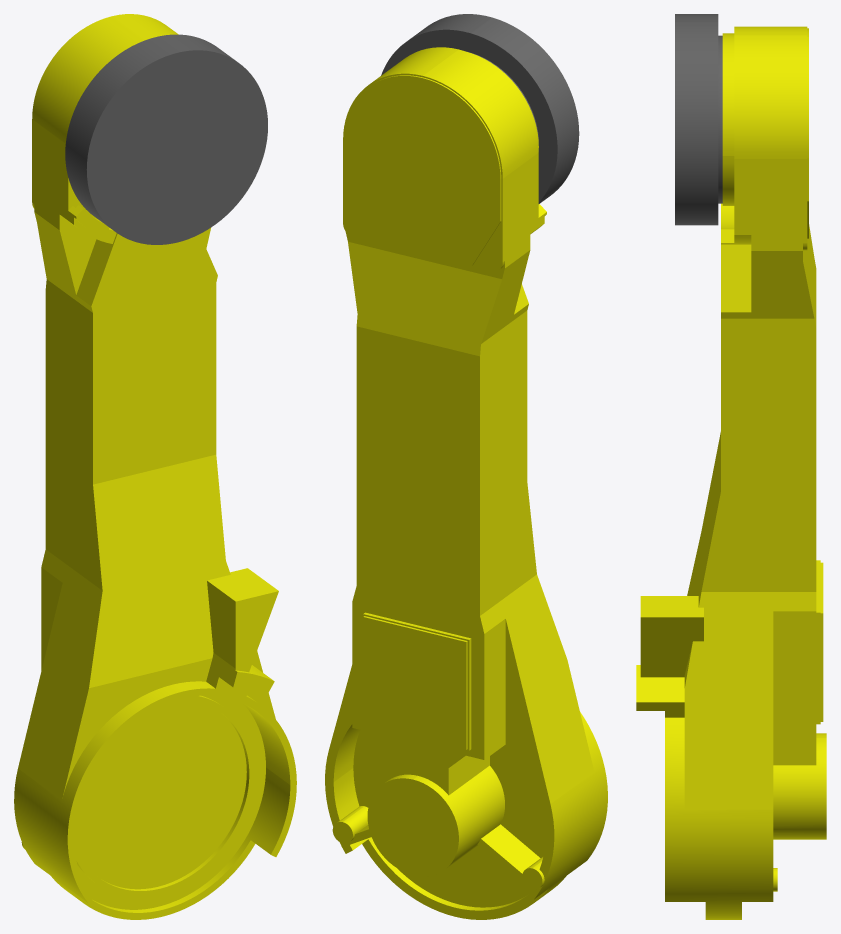
The picture shows the model from 3 angles, left to right: view 1: azimuth 30°, elevation 25°; view 2: azimuth 150°, elevation 25°; view 3: azimuth 270°, elevation 25°; orthographic projection.
Parts seen in each view (by area): view 1: Mesh_0; view 2: Mesh_0; view 3: Mesh_0.
Boxes of the visible parts, left/top/right/bottom form: Mesh_0: left=14, top=14, right=296, bottom=919; Mesh_0: left=325, top=14, right=607, bottom=919; Mesh_0: left=636, top=14, right=826, bottom=919.
Bounding box in the file's own units: 0.316 × 0.225 × 1.15.
